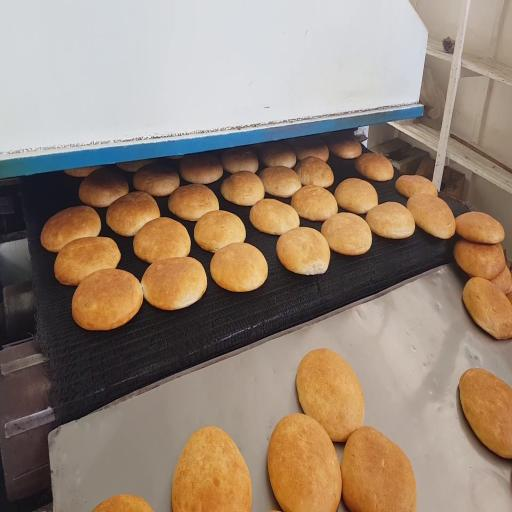bread: (268, 414, 341, 511), (172, 427, 251, 511), (341, 427, 417, 511), (296, 349, 364, 441), (459, 368, 511, 458), (72, 269, 142, 330), (141, 257, 206, 310), (54, 237, 120, 285), (463, 277, 511, 339), (41, 206, 101, 252), (211, 243, 267, 292), (276, 227, 330, 274), (134, 218, 190, 263), (106, 192, 160, 236), (407, 194, 455, 239), (194, 211, 245, 252), (322, 213, 371, 255), (454, 240, 505, 280), (79, 168, 129, 207), (168, 184, 219, 220), (366, 202, 415, 239), (250, 199, 299, 235), (291, 185, 337, 221), (134, 161, 179, 196), (335, 178, 378, 214), (221, 171, 264, 206), (456, 212, 504, 243), (259, 166, 301, 197), (180, 154, 223, 183), (295, 157, 333, 187), (355, 153, 394, 181), (220, 147, 258, 173), (396, 175, 437, 198), (94, 495, 152, 511), (260, 142, 296, 167), (292, 137, 329, 161), (329, 134, 361, 159), (492, 266, 511, 294), (117, 160, 154, 172), (64, 166, 101, 177), (168, 155, 183, 160), (507, 292, 511, 303)
